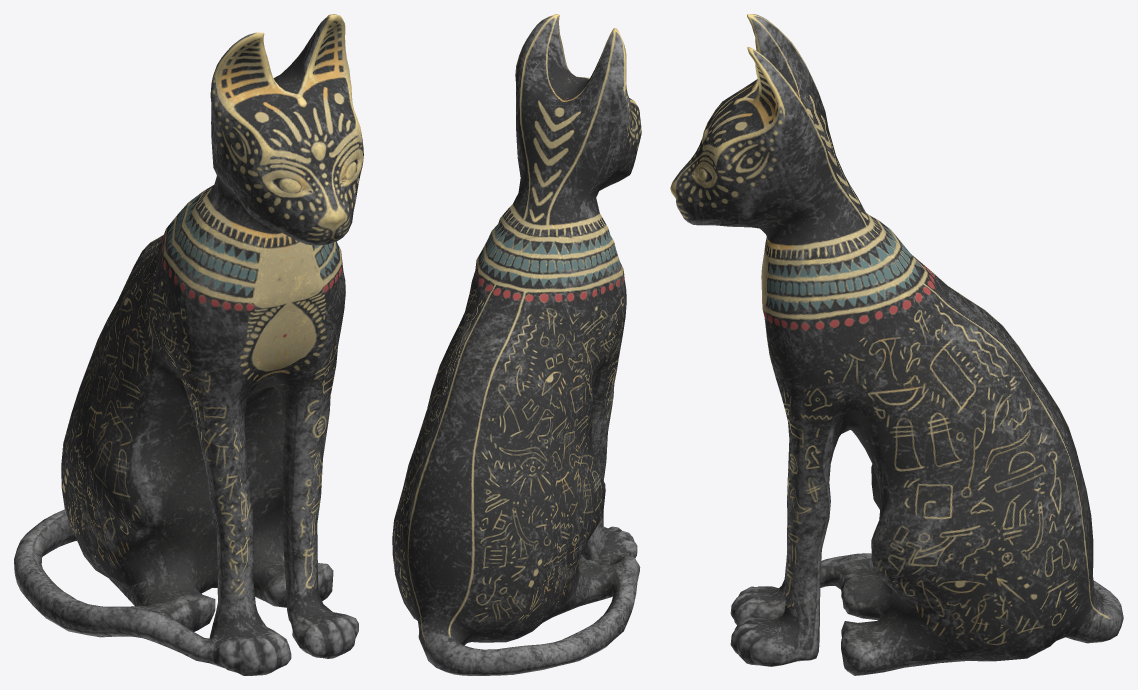
Rendered from cat.glb.
3 renders of one model, left to right at view 1: azimuth 30°, elevation 25°; view 2: azimuth 150°, elevation 25°; view 3: azimuth 270°, elevation 25°, orthographic. The views are drawn at different scales.
Parts seen in each view (by area): view 1: Cat_Statue; view 2: Cat_Statue; view 3: Cat_Statue.
Boxes of the visible parts, x1,y1,x2,y2 form: Cat_Statue: (14, 14, 363, 675); Cat_Statue: (392, 14, 641, 675); Cat_Statue: (670, 14, 1123, 675).
Size of the model in its own units: 0.7912 by 2 by 1.33.
Materials: 1 (1 with a texture image).
